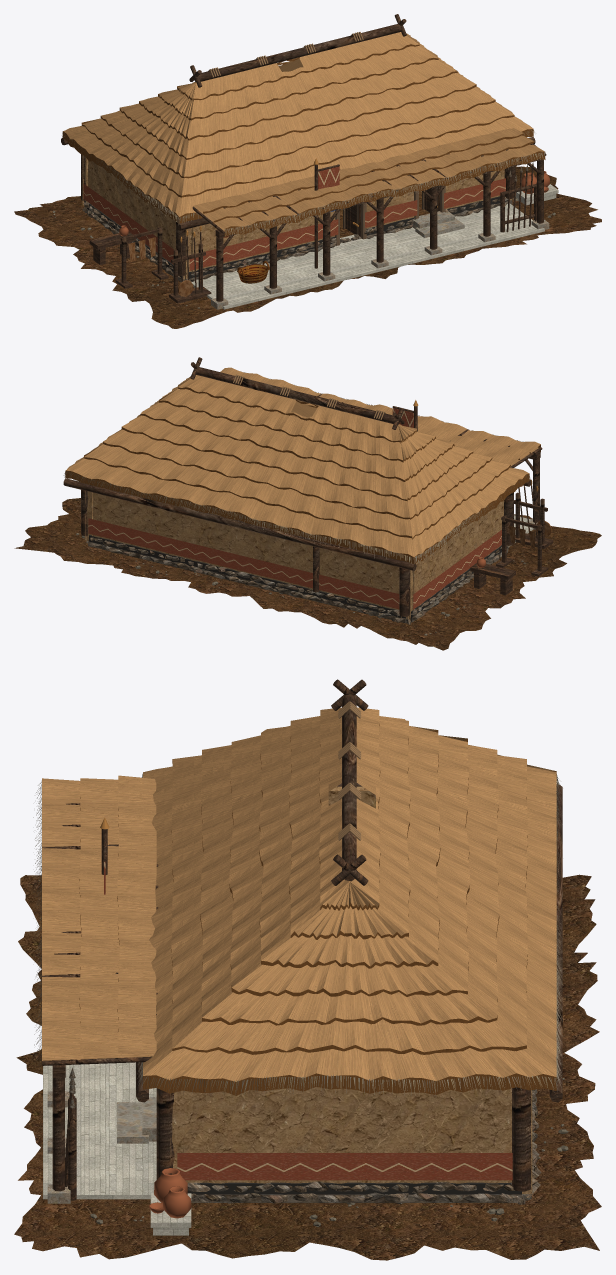
Rendered from barracks@1.glb.
3 renders of one model, top to bottom at view 1: azimuth 30°, elevation 25°; view 2: azimuth 150°, elevation 25°; view 3: azimuth 270°, elevation 25°, orthographic. The views are drawn at different scales.
Visible parts, largest first — view 1: part_18, part_8, part_1, part_19, part_7, part_5, part_15, part_4, part_21, part_24, part_25, part_6 (+2 smaller); view 2: part_18, part_1, part_5, part_8, part_19, part_15, part_4, part_21, part_25, part_16; view 3: part_18, part_1, part_5, part_8, part_19, part_7, part_15, part_4, part_21, part_25, part_24, part_11 (+1 smaller).
Boxes of the visible parts, x1,y1,x2,y2 form: part_18: [63, 32, 544, 231]; part_8: [61, 14, 546, 303]; part_1: [14, 166, 601, 328]; part_19: [62, 44, 545, 236]; part_7: [191, 184, 558, 309]; part_5: [82, 155, 513, 279]; part_15: [83, 166, 505, 270]; part_4: [82, 162, 533, 282]; part_21: [62, 129, 545, 235]; part_24: [211, 211, 549, 309]; part_25: [84, 196, 508, 278]; part_6: [335, 185, 445, 245]; part_18: [66, 367, 540, 557]; part_1: [14, 498, 601, 650]; part_5: [84, 491, 510, 619]; part_8: [63, 357, 553, 616]; part_19: [65, 386, 540, 563]; part_15: [88, 408, 501, 609]; part_4: [86, 537, 508, 624]; part_21: [63, 372, 530, 563]; part_25: [89, 535, 507, 622]; part_16: [509, 521, 551, 548]; part_18: [42, 707, 556, 1081]; part_1: [14, 874, 601, 1260]; part_5: [170, 786, 532, 1193]; part_8: [42, 679, 562, 1200]; part_19: [79, 724, 556, 1095]; part_7: [43, 1062, 191, 1235]; part_15: [104, 861, 512, 1180]; part_4: [69, 1067, 541, 1204]; part_21: [33, 774, 563, 1096]; part_25: [187, 1182, 531, 1198]; part_24: [47, 1091, 156, 1203]; part_11: [149, 1168, 191, 1218].
Bounding box in the file's own units: 9.8 × 3.54 × 6.22.
26 materials, 17 textured.
